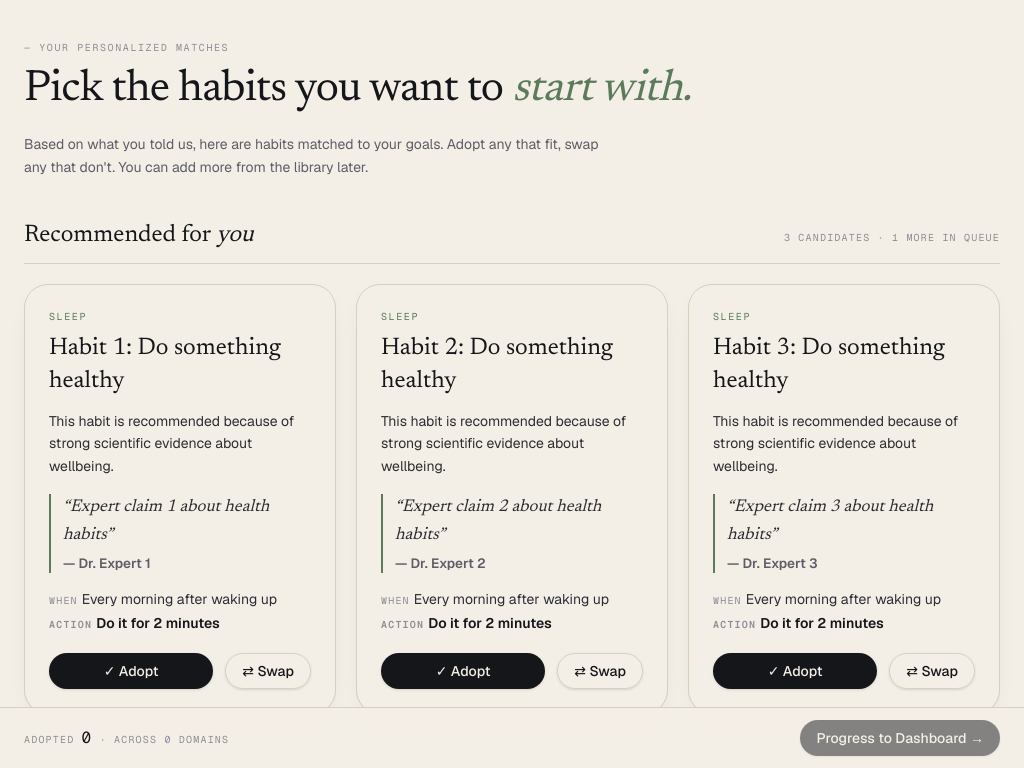
Test case: AdoptBoard › Remove takes a habit back out of the starting set
Click the button with aria-label "Adopt Habit 1".
click(131, 671)  # box [49, 653, 213, 689]
(page scrolled)
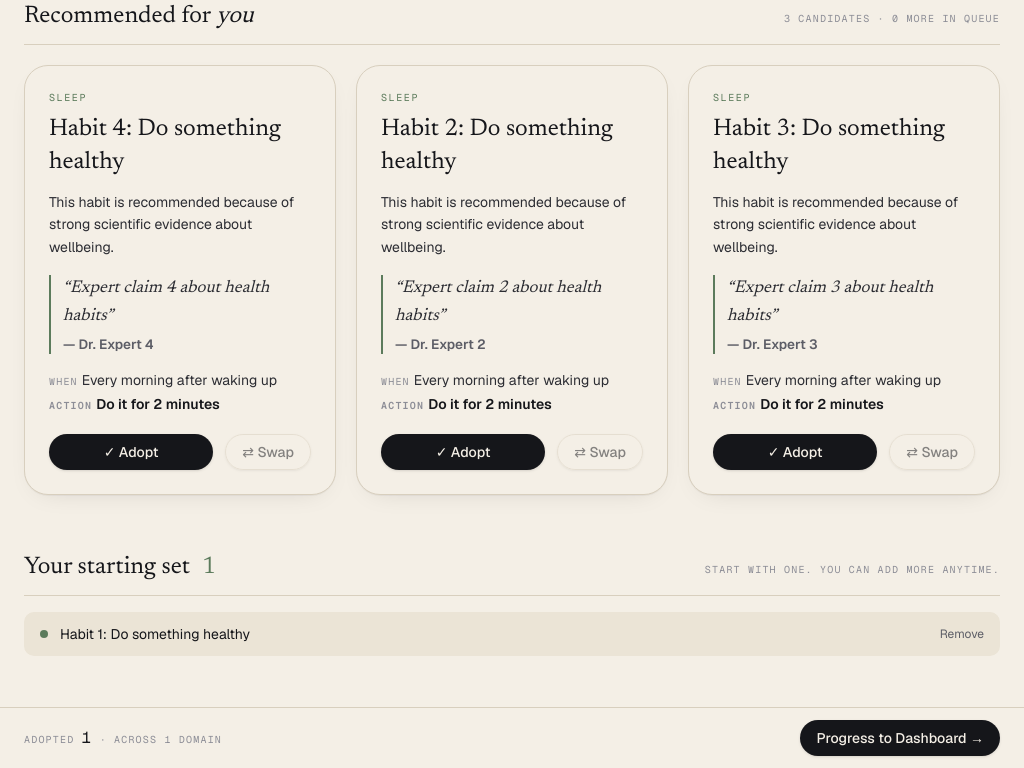
Check: the text "Habit 1: Do something healthy" is shown, box [60, 624, 250, 644]
Click the button with aria-label "Remove Habit 1".
click(962, 634)  # box [940, 626, 984, 642]
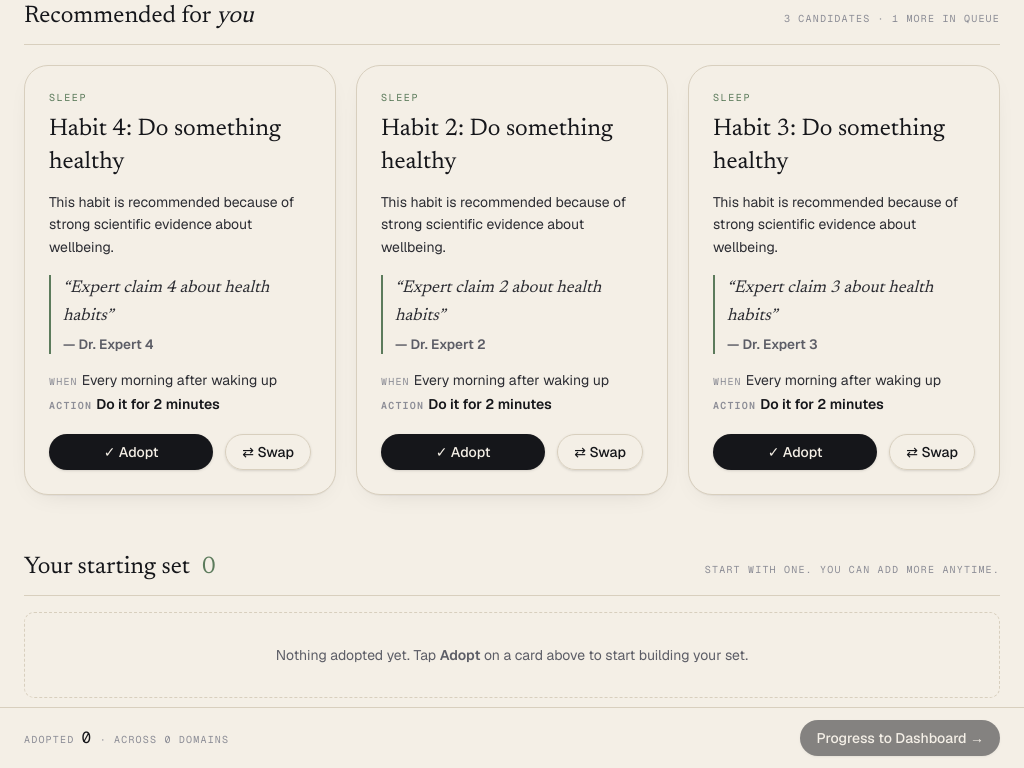
Check: the text "Habit 1: Do something healthy" is gone
